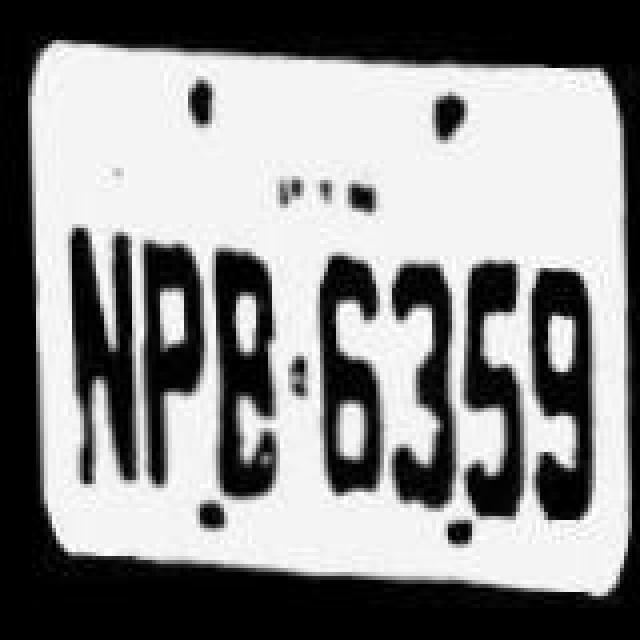3: (378, 262, 466, 514)
5: (452, 258, 536, 526)
6: (300, 252, 380, 504)
9: (520, 258, 596, 534)
B: (204, 236, 292, 508)
N: (60, 212, 140, 492)
P: (134, 224, 210, 484)
